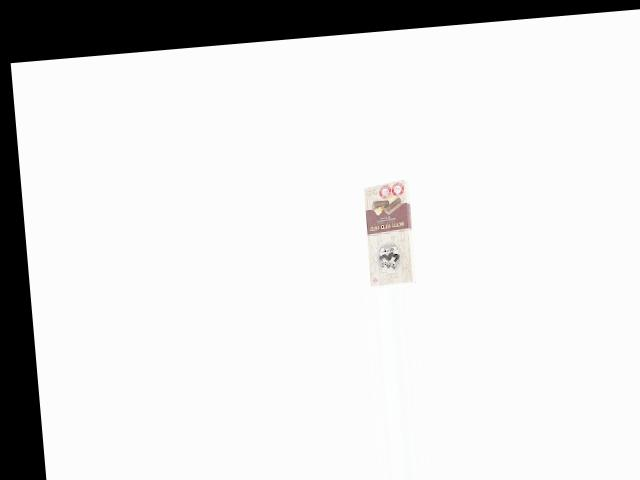chocolate: (360, 177, 424, 286)
